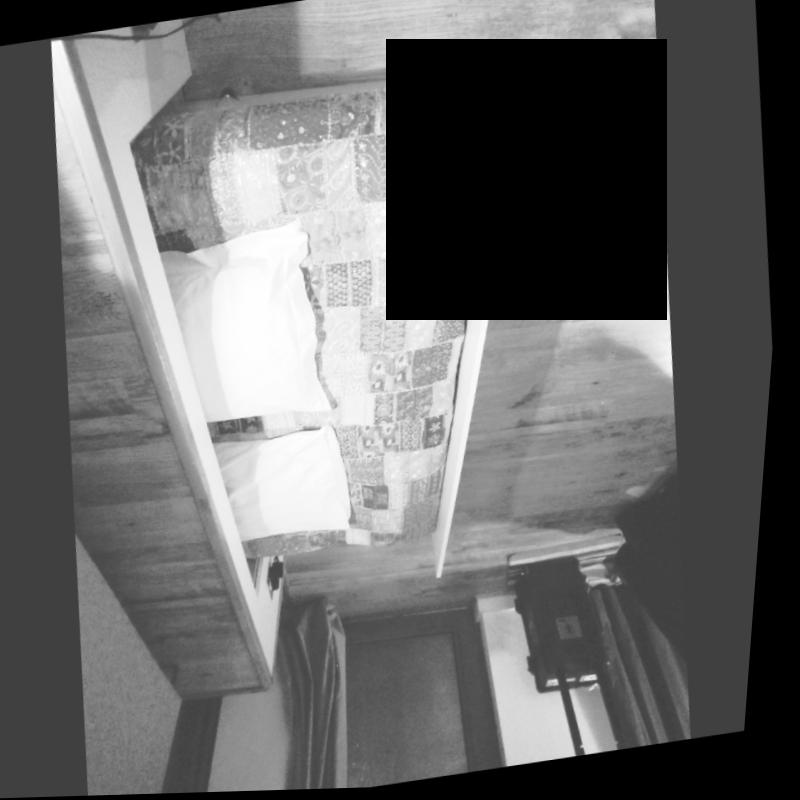pillow: (51, 9, 577, 670), (148, 217, 338, 435), (211, 418, 367, 552)
